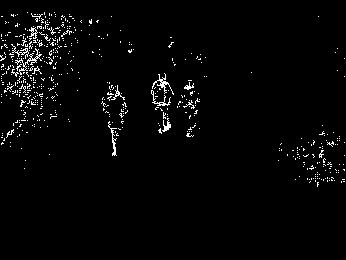person: (100, 82, 127, 158), (151, 71, 175, 134), (177, 78, 201, 139)
